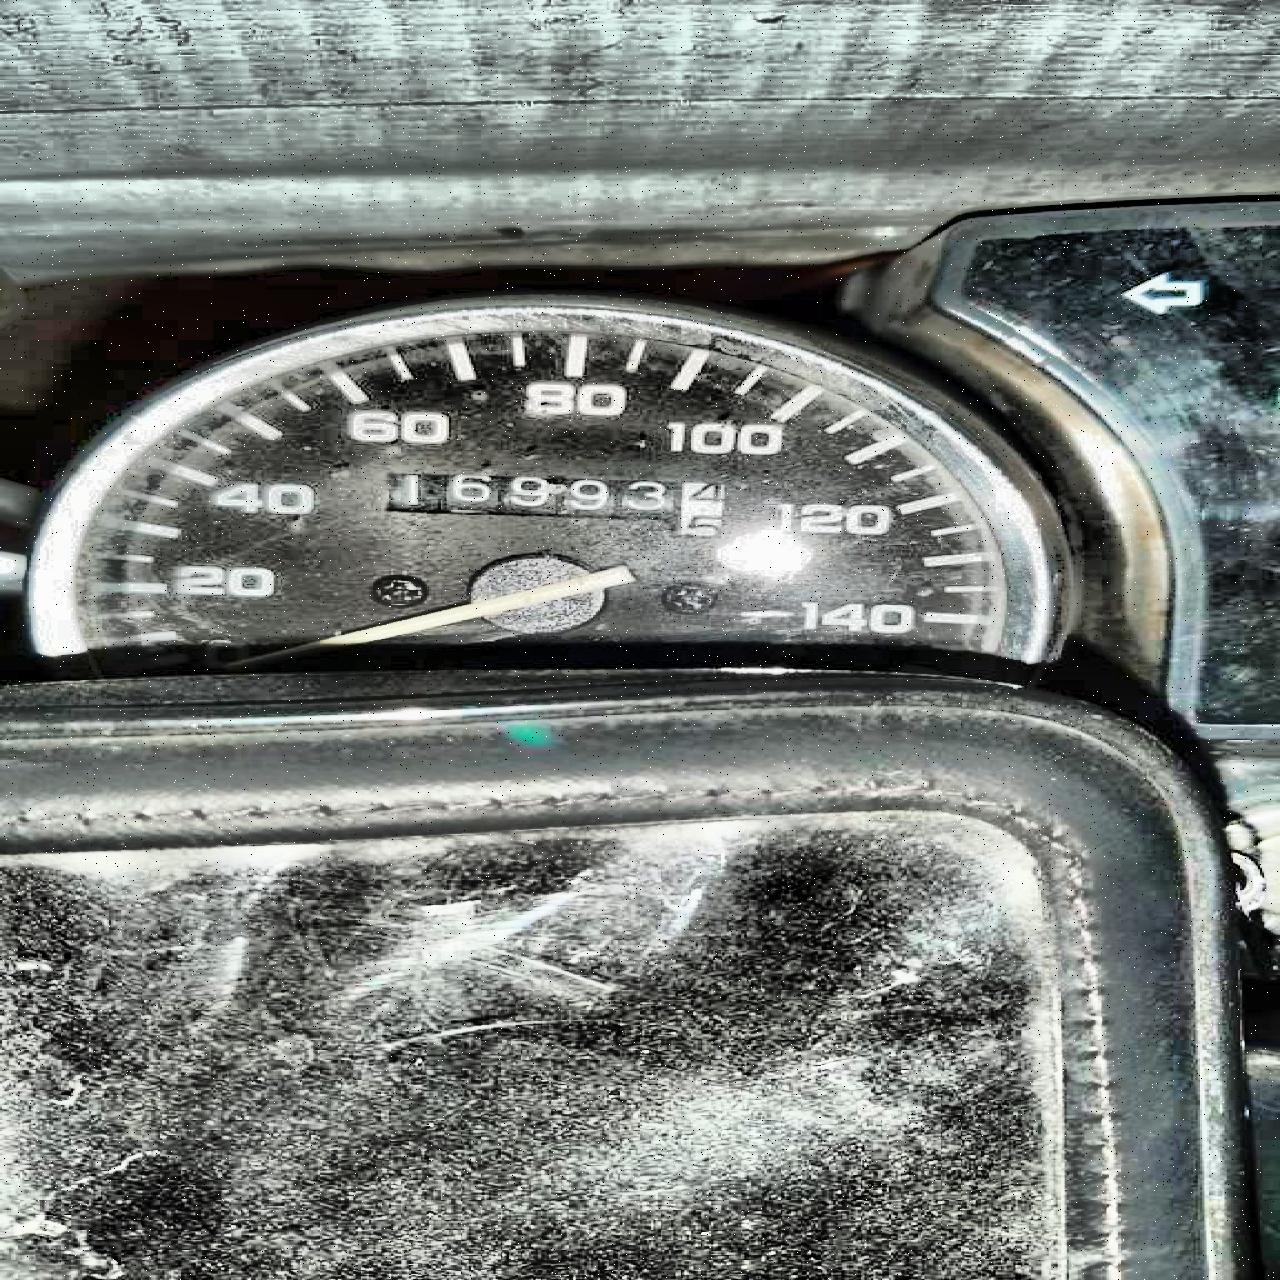1: (402, 474, 417, 504)
3: (625, 481, 665, 509)
4: (687, 481, 722, 505)
5: (682, 513, 722, 538)
6: (449, 472, 491, 502)
9: (504, 475, 549, 506), (566, 477, 606, 509)
odometer: (380, 470, 729, 540)
